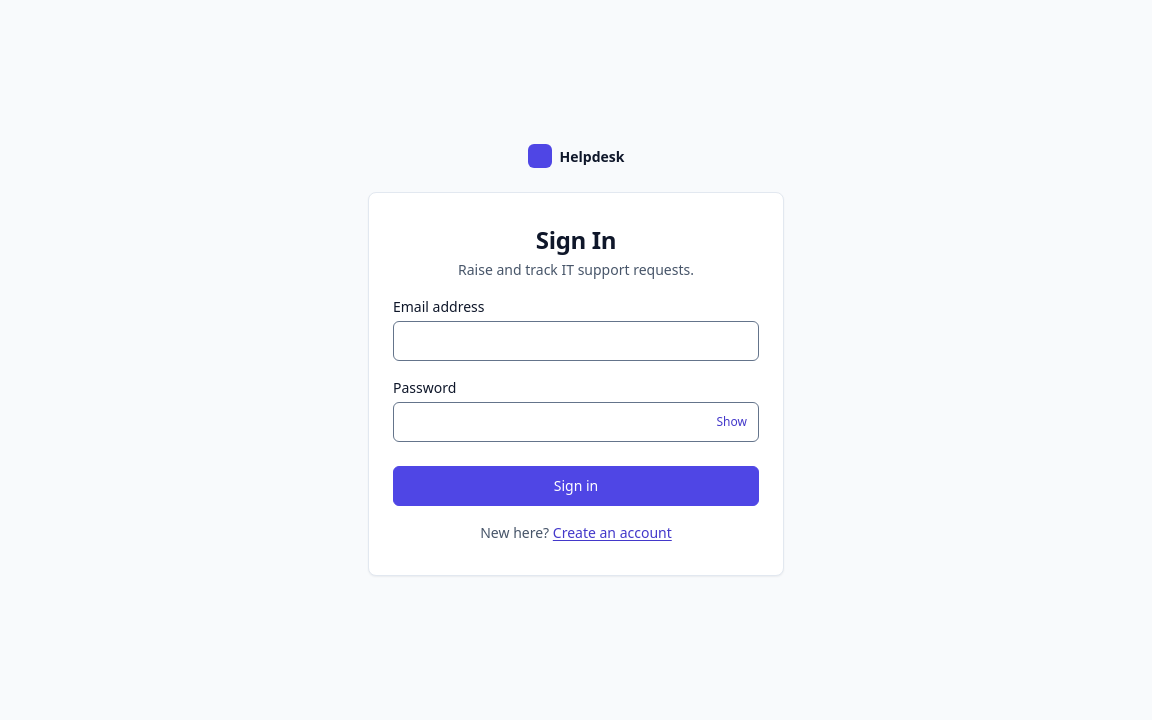
Test case: route guards and navigation › redirects anonymous users to /login and returns them afterwards
Expected: the heading "Sign In" is shown, top-left (536, 223), bottom-right (616, 256)
In the field labelled "Email address": (576, 341) top-left (393, 321), bottom-right (759, 361), type "ada@example.com"
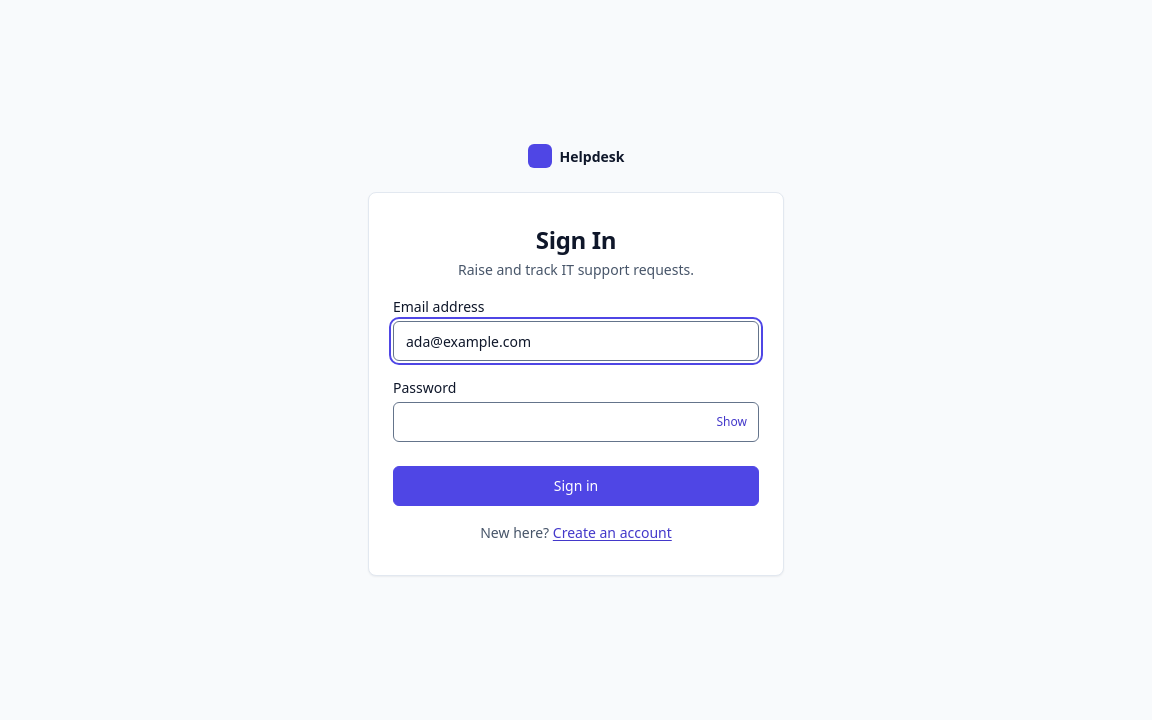
In the password field labelled "Password": (576, 422) top-left (393, 402), bottom-right (759, 442), type "correct-password"
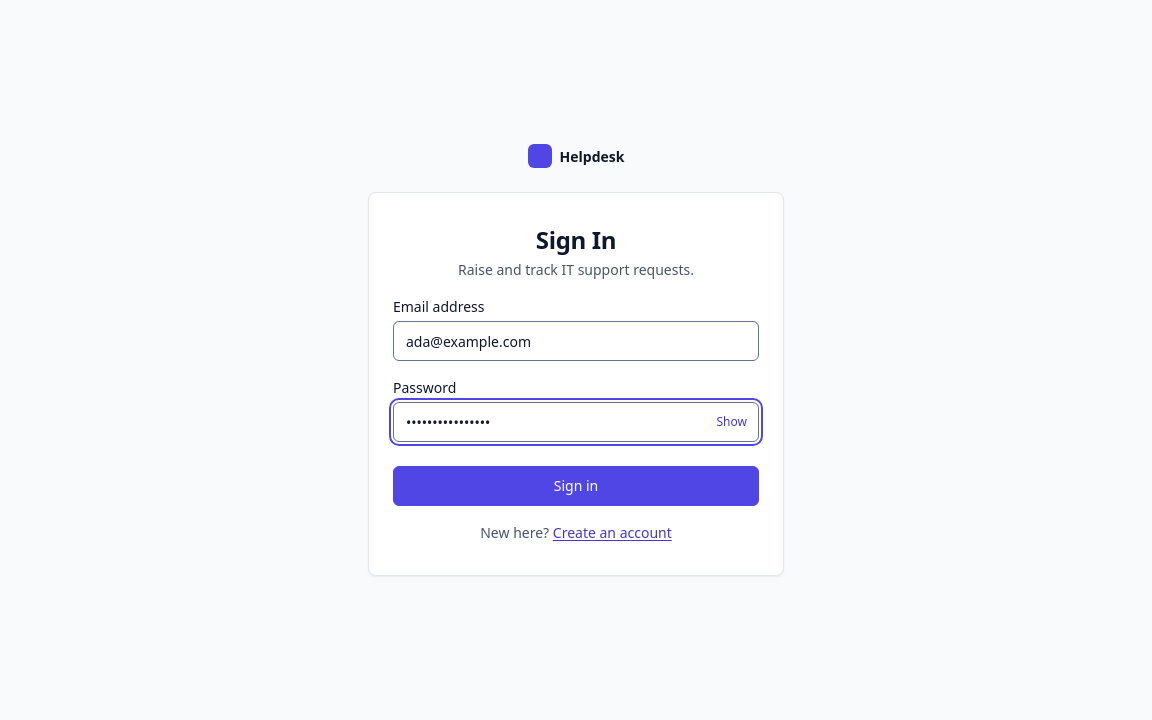
Click the button "Sign in": (576, 486) top-left (393, 466), bottom-right (759, 506)
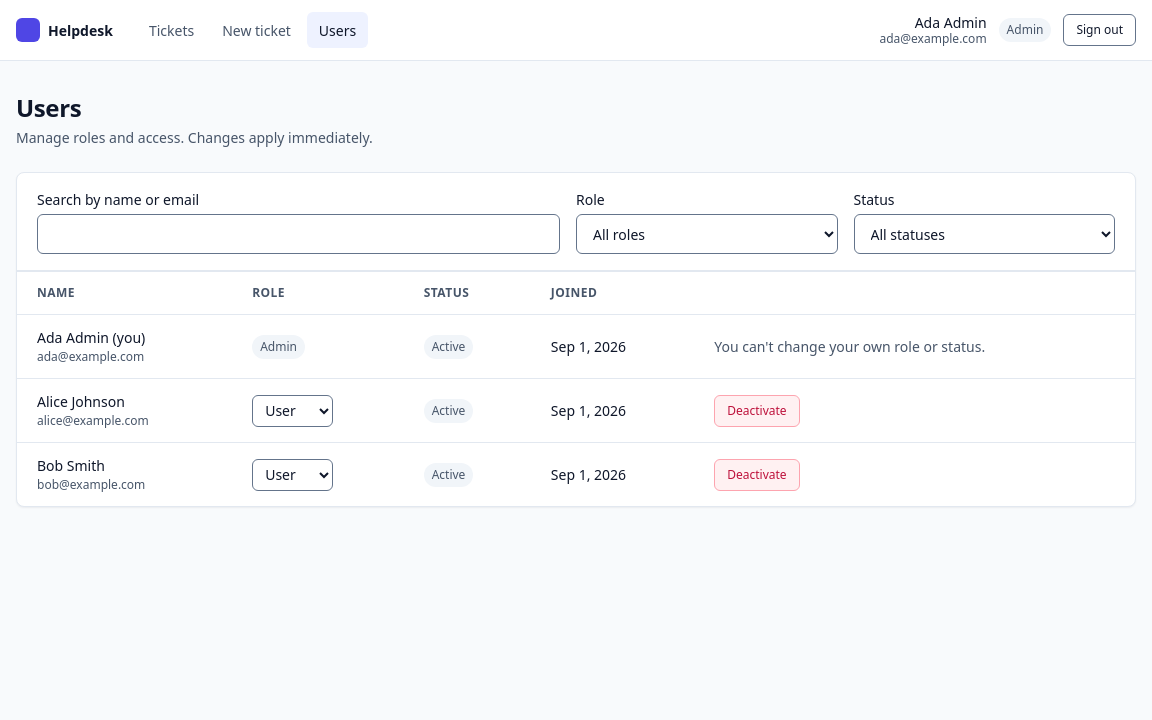
Result: the heading "Users" is shown at top-left (16, 91), bottom-right (81, 124)
